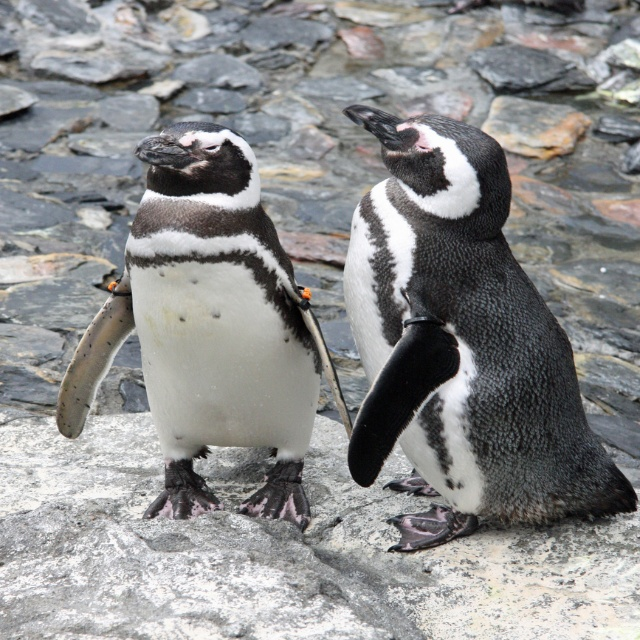Penguin: (340, 105, 639, 551), (55, 121, 355, 532)
